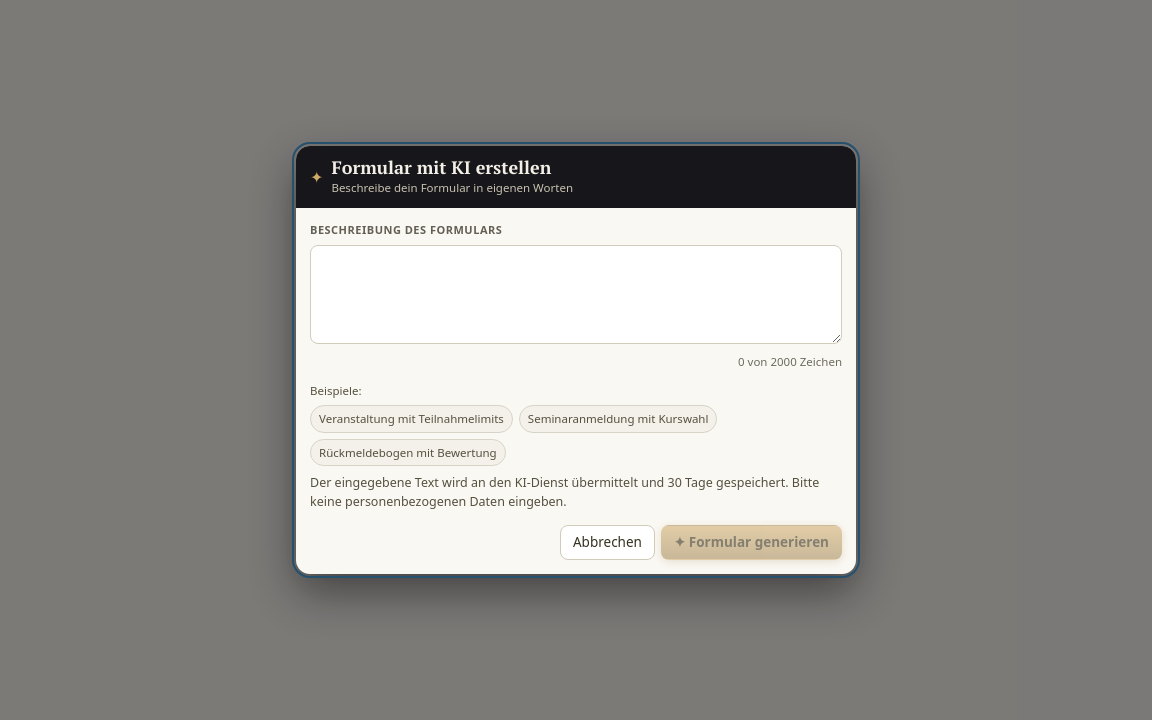
it: AiFormDialog — the evidence: the result is a preview › falls back to the first page title when the model named none
The width and height of the screenshot is (1152, 720).
Type "Anmeldung mit Kontaktfeldern" into the text box labelled "Beschreibung des Formulars" at (576, 294), box left=310, top=245, right=842, bottom=344
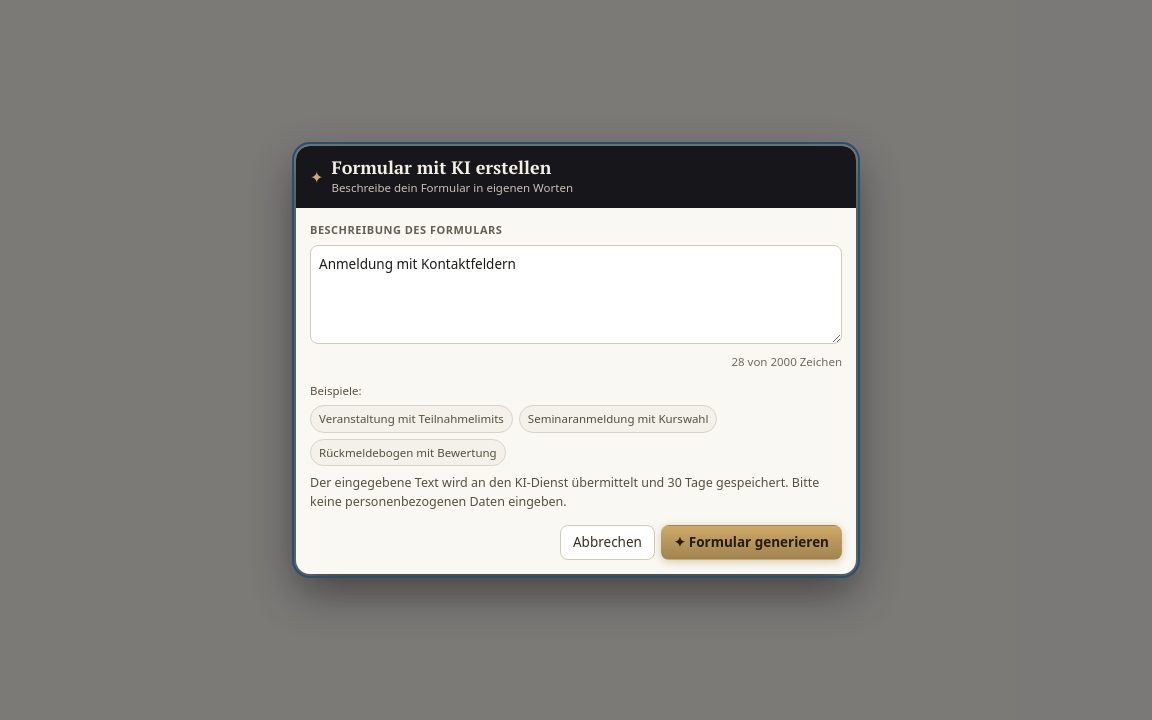
Click the button "✦ Formular generieren" at (751, 543), box left=661, top=526, right=842, bottom=560
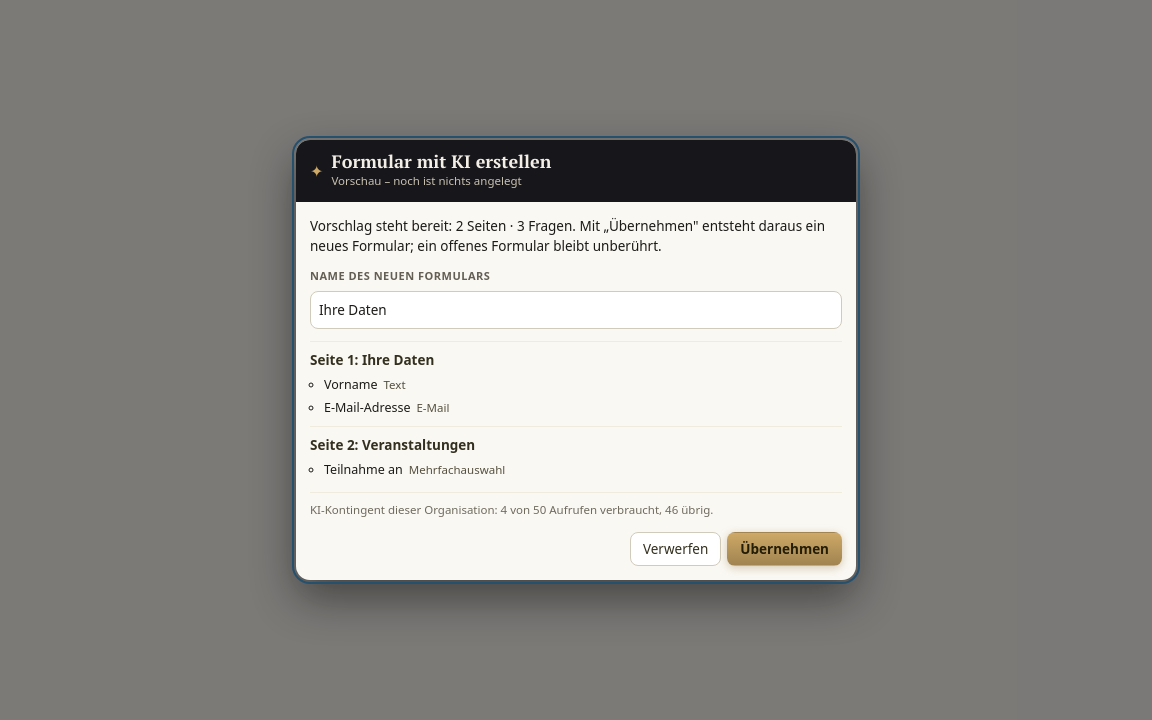
Check: the field labelled "Name des neuen Formulars" holds "Ihre Daten", box left=310, top=291, right=842, bottom=329
